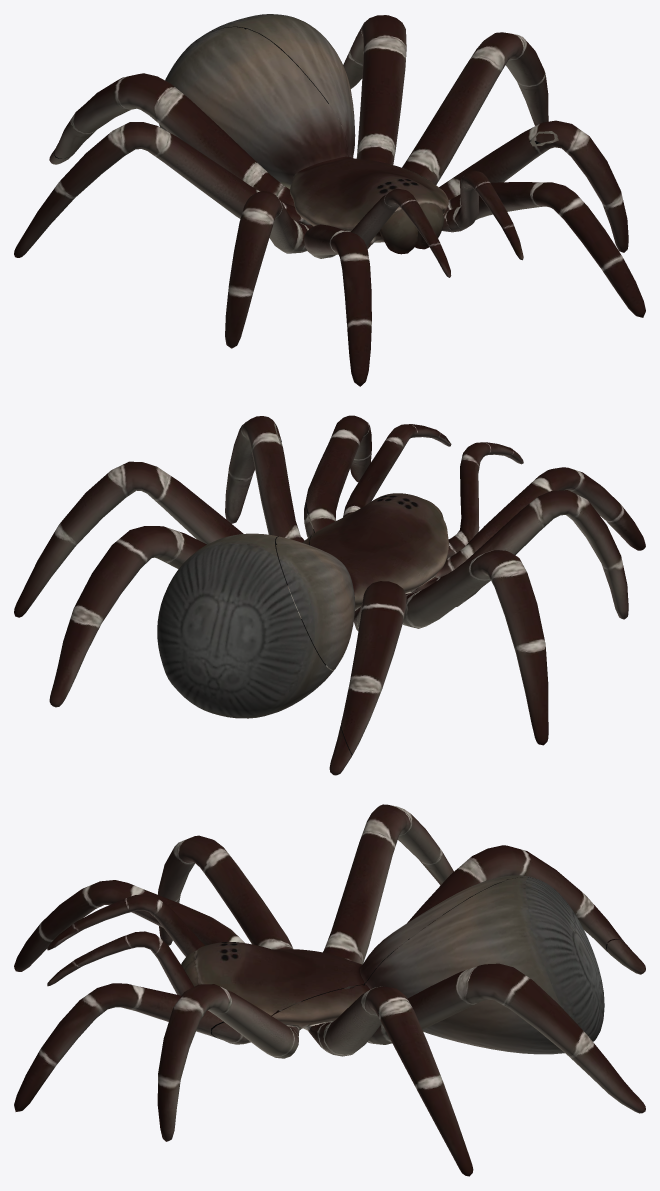
The model's file is spider3full-compressed.glb.
The picture shows the model from 3 angles, top to bottom: view 1: azimuth 30°, elevation 25°; view 2: azimuth 150°, elevation 25°; view 3: azimuth 270°, elevation 25°; orthographic projection. The views are drawn at different scales.
Visible parts, largest first — view 1: Spider_0_cell.003; view 2: Spider_0_cell.003; view 3: Spider_0_cell.003.
Boxes of the visible parts, box(x1,y1,x2,y2) form: Spider_0_cell.003: box(14, 14, 645, 386); Spider_0_cell.003: box(14, 415, 645, 775); Spider_0_cell.003: box(14, 804, 645, 1176).
Size of the model in its own units: 1.67 by 0.4673 by 1.68.
1 material, 1 textured.
